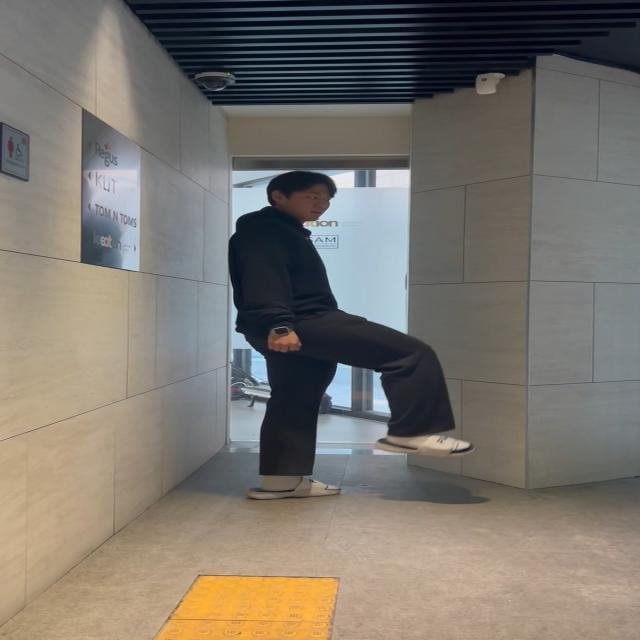leg: (302, 308, 472, 460)
